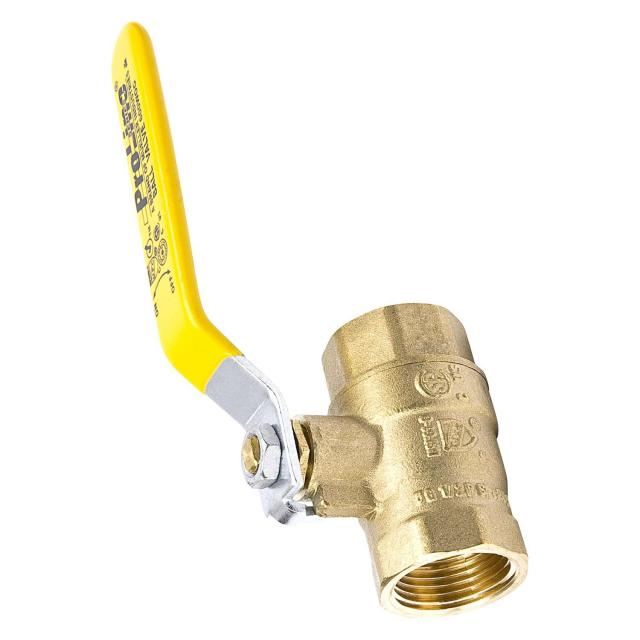opened_valve: (109, 21, 532, 620)
